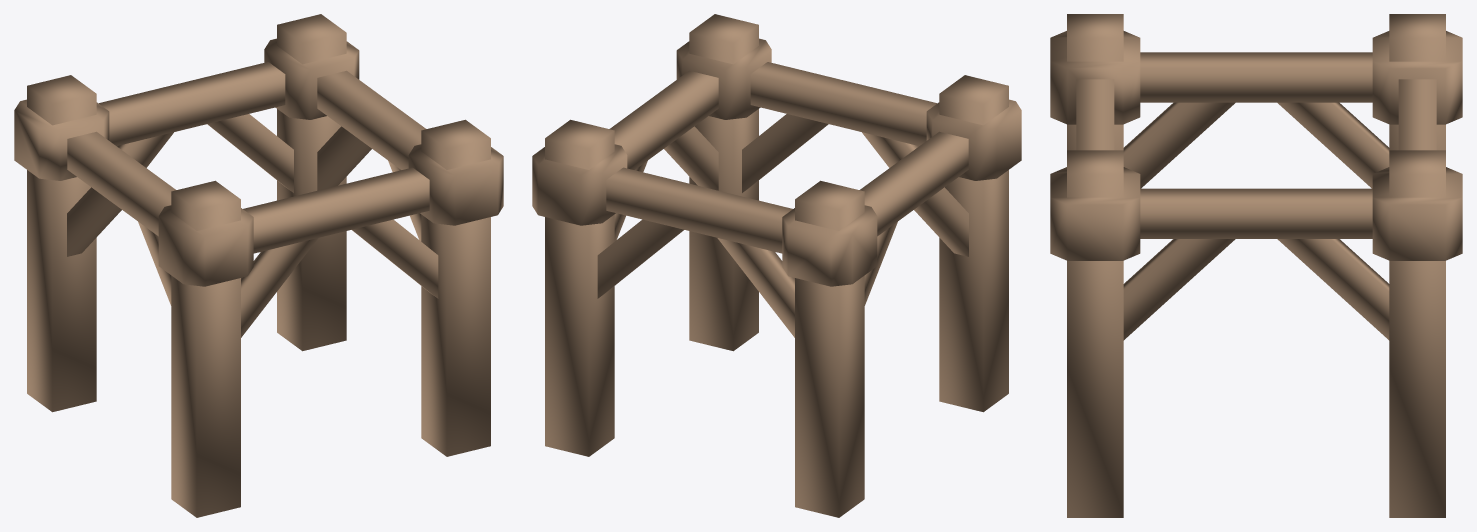
The model's file is kenney_mini-dungeon__wood-structure.fbx.
3 renders of one model, left to right at view 1: azimuth 30°, elevation 25°; view 2: azimuth 150°, elevation 25°; view 3: azimuth 270°, elevation 25°, orthographic. The views are drawn at different scales.
Parts seen in each view (by area): view 1: kenney_mini-dungeon__wood-structure__cave_wood; view 2: kenney_mini-dungeon__wood-structure__cave_wood; view 3: kenney_mini-dungeon__wood-structure__cave_wood.
Boxes of the visible parts, x1=… form: kenney_mini-dungeon__wood-structure__cave_wood: x1=14, y1=14, x2=503, y2=517; kenney_mini-dungeon__wood-structure__cave_wood: x1=532, y1=14, x2=1021, y2=517; kenney_mini-dungeon__wood-structure__cave_wood: x1=1050, y1=14, x2=1462, y2=517.
Size of the model in its own units: 3.89 by 3.57 by 3.89.
